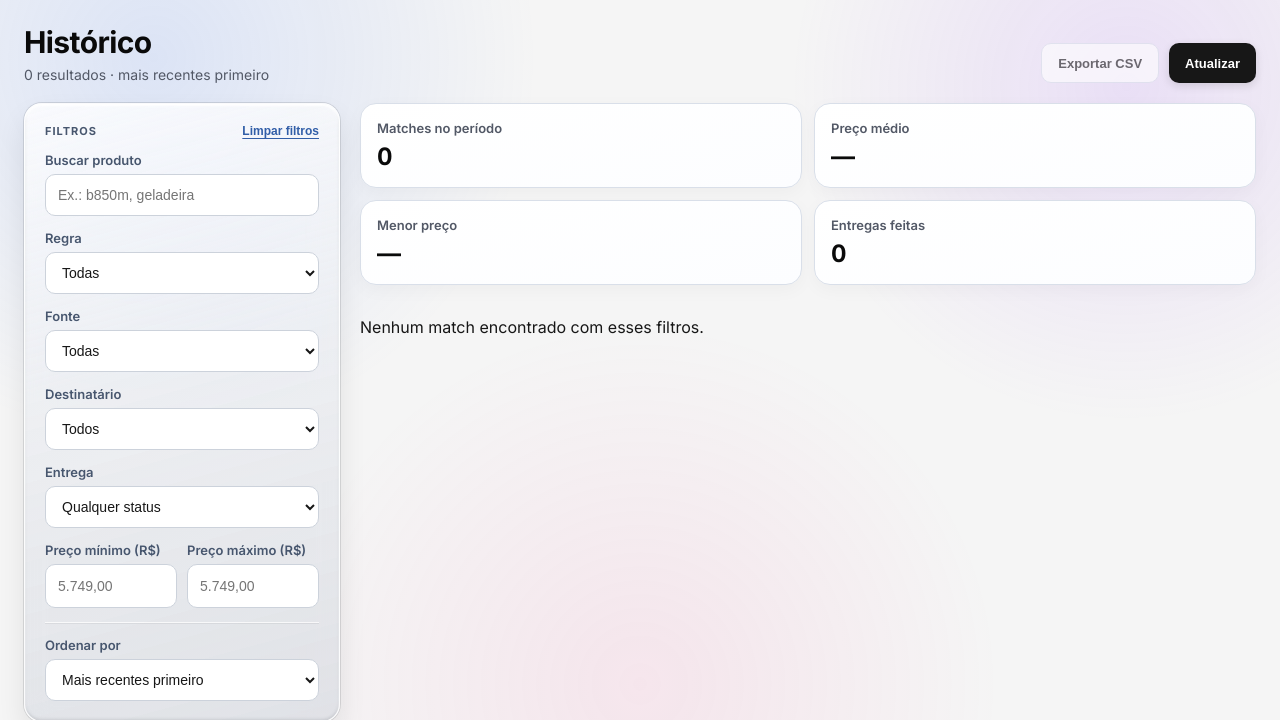
Test: HistoricoPage › repeats the current sort label next to the result count (S10-07, S11-04)
The width and height of the screenshot is (1280, 720).
Expected: the text "Nenhum match encontrado com esses filtros." is shown, 360,317 -> 704,337
Expected: the text with class "historico-page__subtitle" shows "mais recentes primeiro", 118,66 -> 269,83
Select "Menor preço primeiro" in the dropdown labelled "Ordenar por" at x=182, y=680, box 45,659 -> 319,701
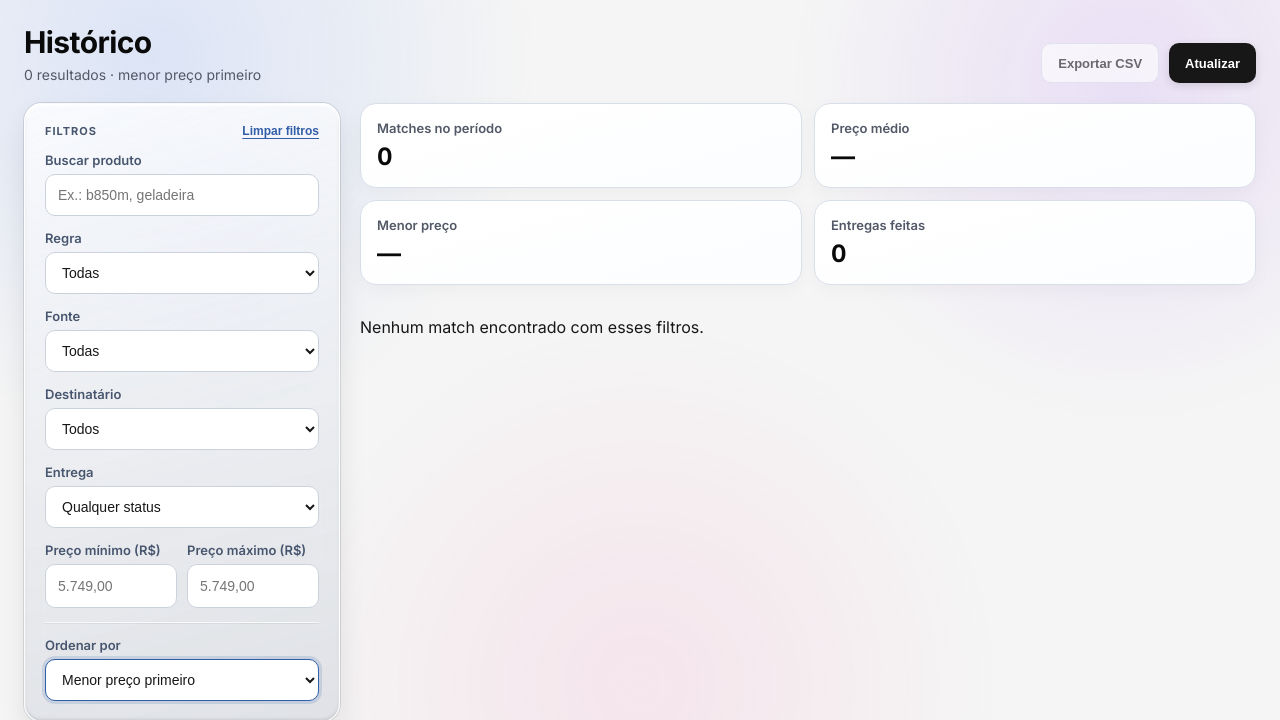
Now the text with class "historico-page__subtitle" shows "menor preço primeiro", box 118,66 -> 261,83
